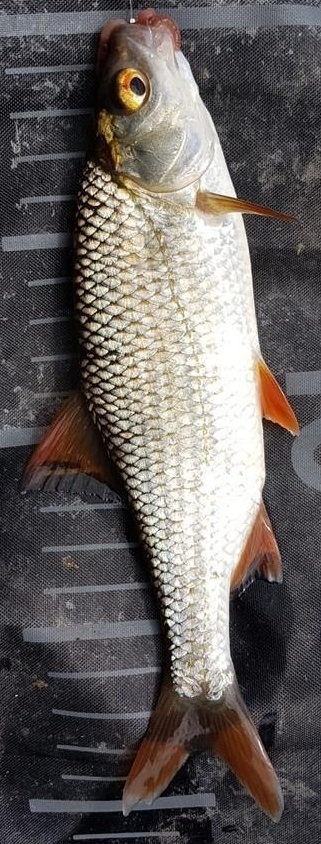Scardinius erythrophthalmus: (20, 20, 301, 824)
